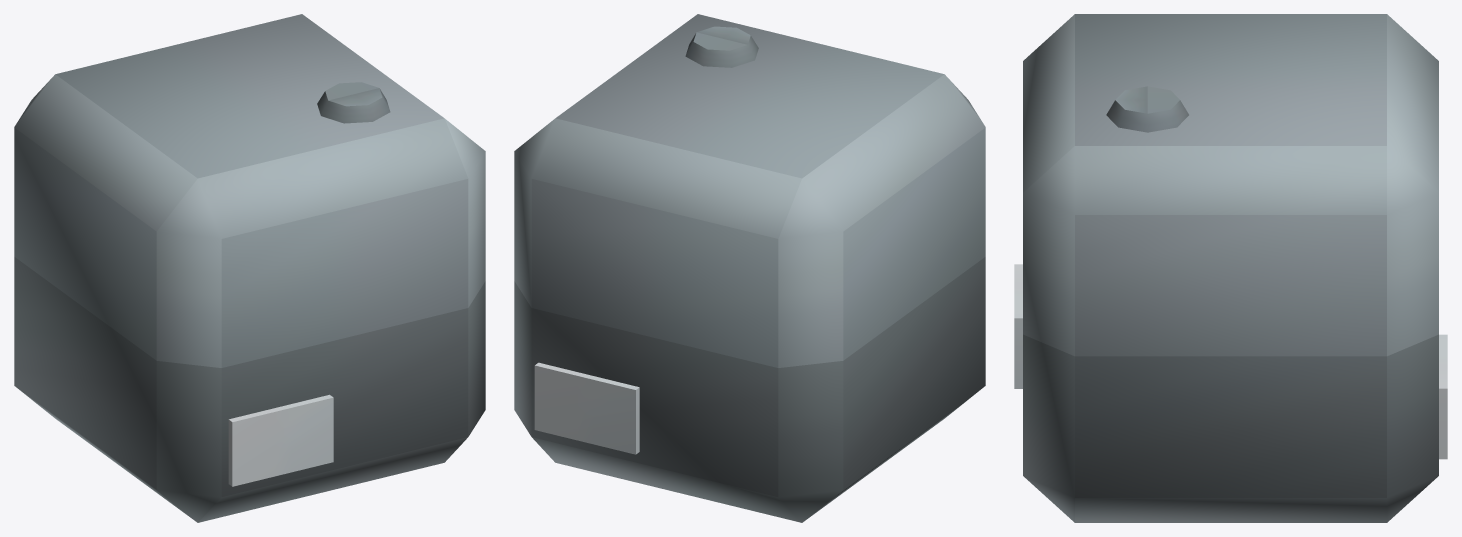
File: kay-carga-cilindro.gltf
The picture shows the model from 3 angles, left to right: view 1: azimuth 30°, elevation 25°; view 2: azimuth 150°, elevation 25°; view 3: azimuth 270°, elevation 25°; orthographic projection. The views are drawn at different scales.
Visible parts, largest first — view 1: cargo_B; view 2: cargo_B; view 3: cargo_B.
Boxes of the visible parts, <box> form: cargo_B: <box>14,14,485,522</box>; cargo_B: <box>514,14,985,522</box>; cargo_B: <box>1014,14,1447,522</box>.
Size of the model in its own units: 1.3 by 1.35 by 1.35.
Materials: 1 (1 with a texture image).
